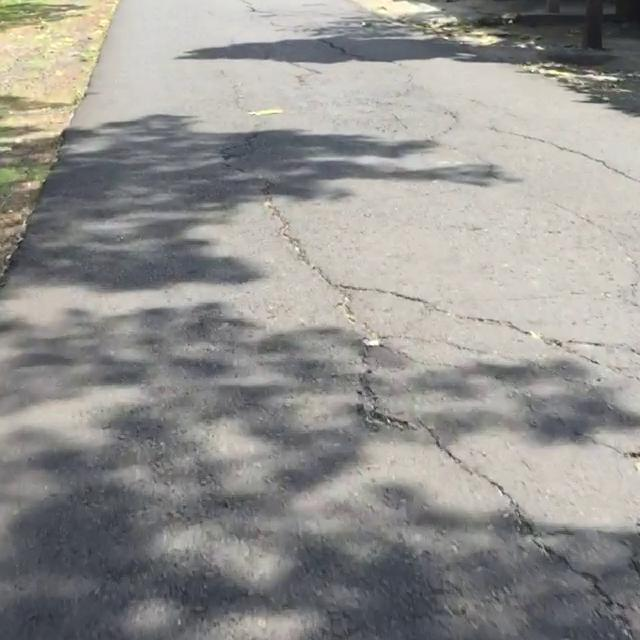retak_memanjang: (191, 119, 423, 480), (410, 243, 610, 413), (464, 451, 640, 640), (485, 122, 640, 282)
